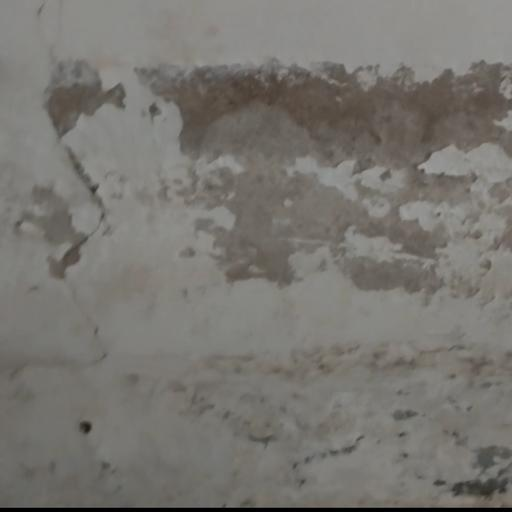peeling: (11, 32, 512, 328)
